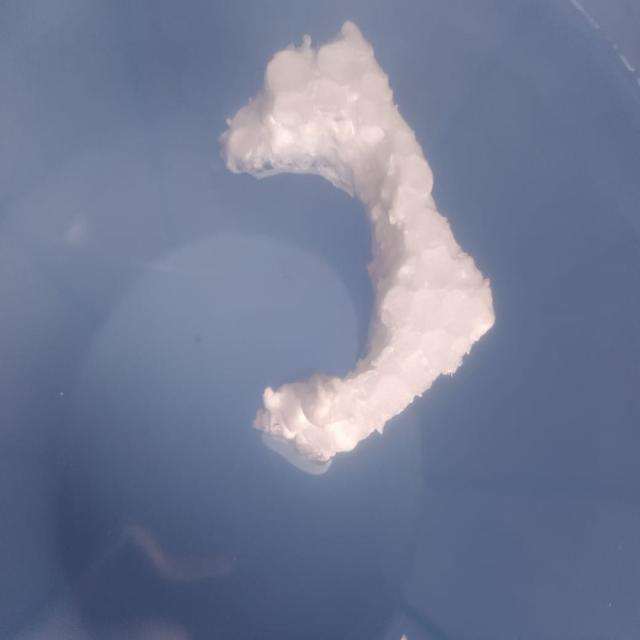litter: (204, 0, 496, 474)
